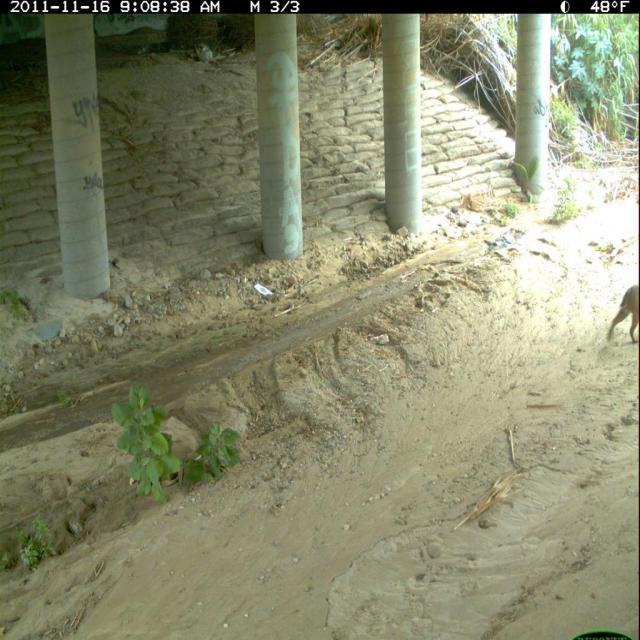bobcat: (605, 278, 639, 348)
